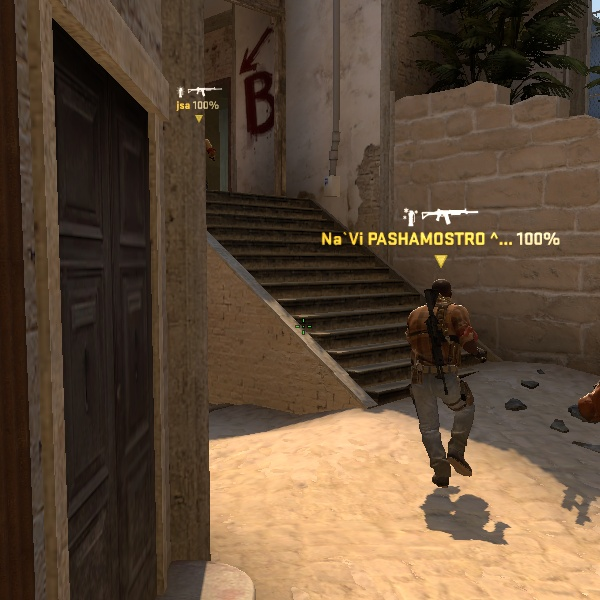t_body: (386, 274, 502, 491)
t_head: (421, 278, 461, 318)
